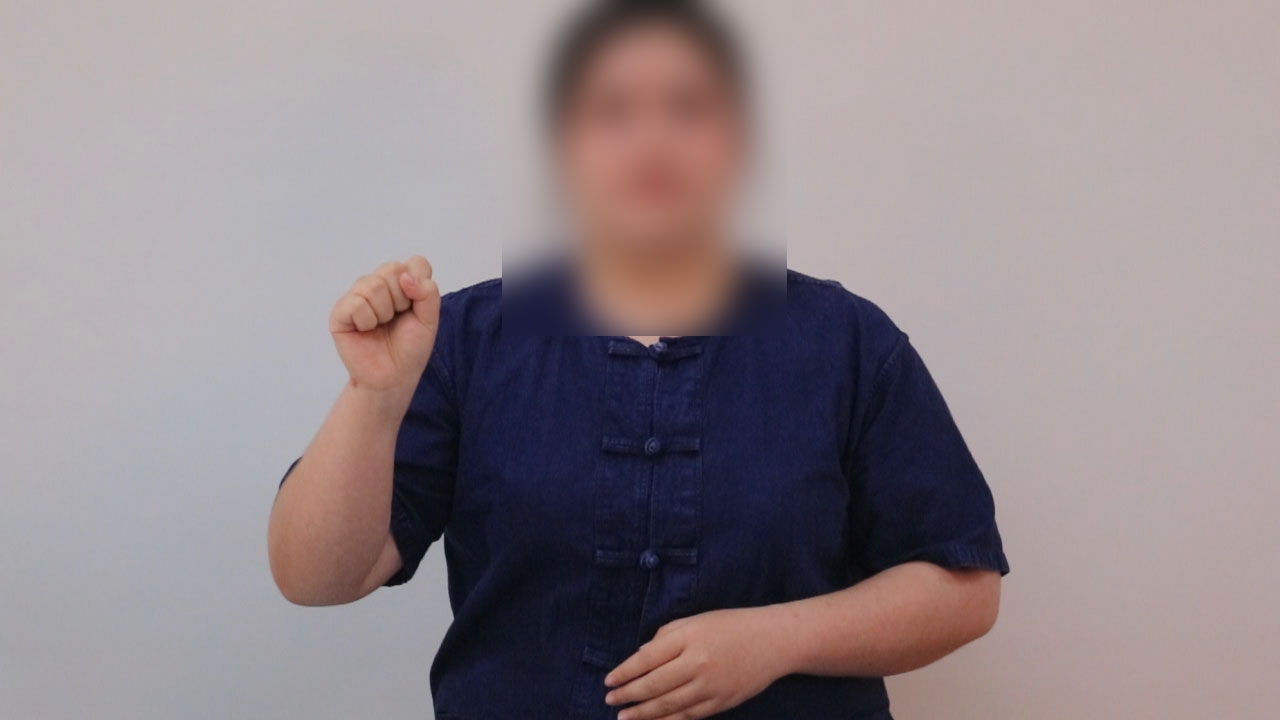sor: (320, 236, 448, 394)
